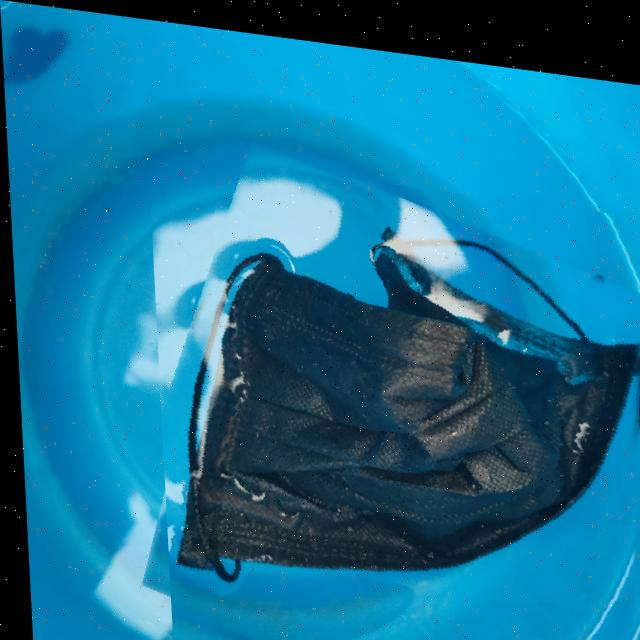litter: (146, 148, 640, 640)
